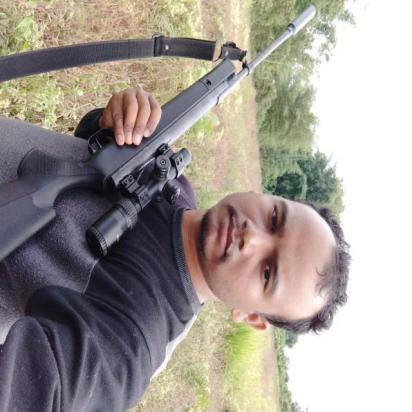Gun: (0, 2, 318, 265)
